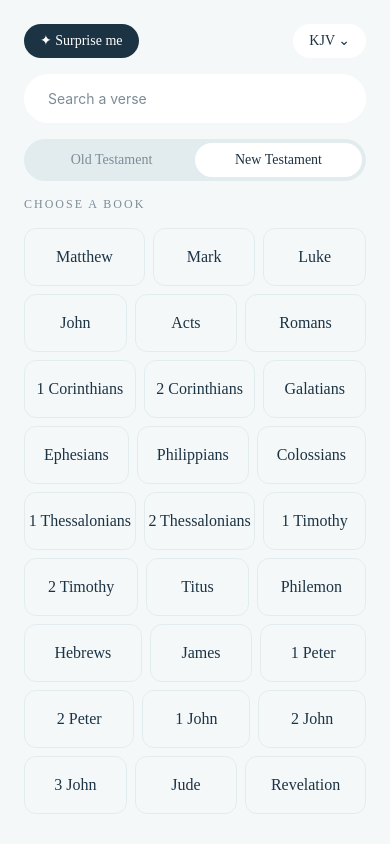
Test case: OT/NT toggle filters the book grid
Expected: the text "Matthew" is shown, [56, 245, 113, 269]
Step 1. Click the text "Old Testament" → (112,160), box [71, 151, 152, 169]
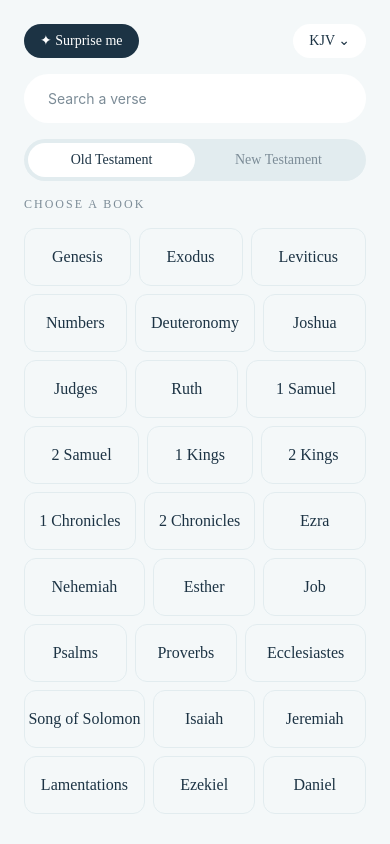
Expected: the text "Genesis" is shown, [52, 245, 103, 269]
